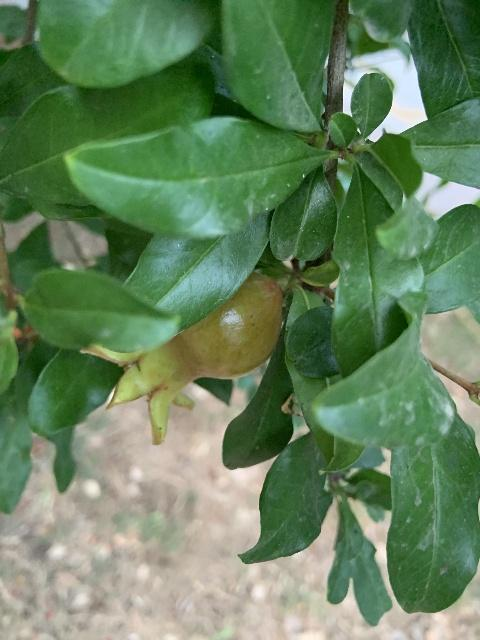early-fruit: (82, 271, 283, 446)
